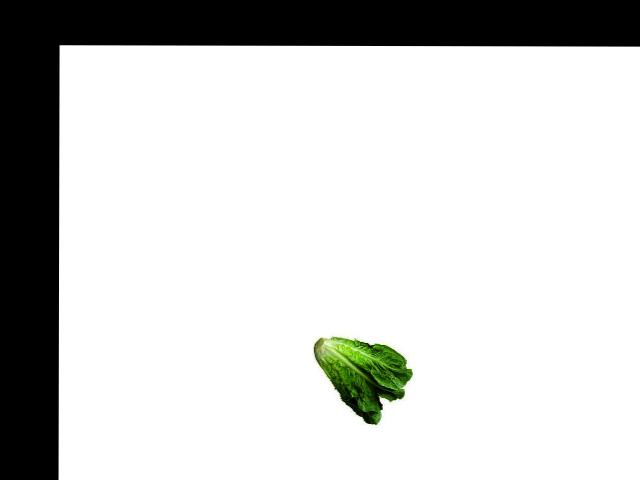lettuce: (316, 332, 411, 429)
